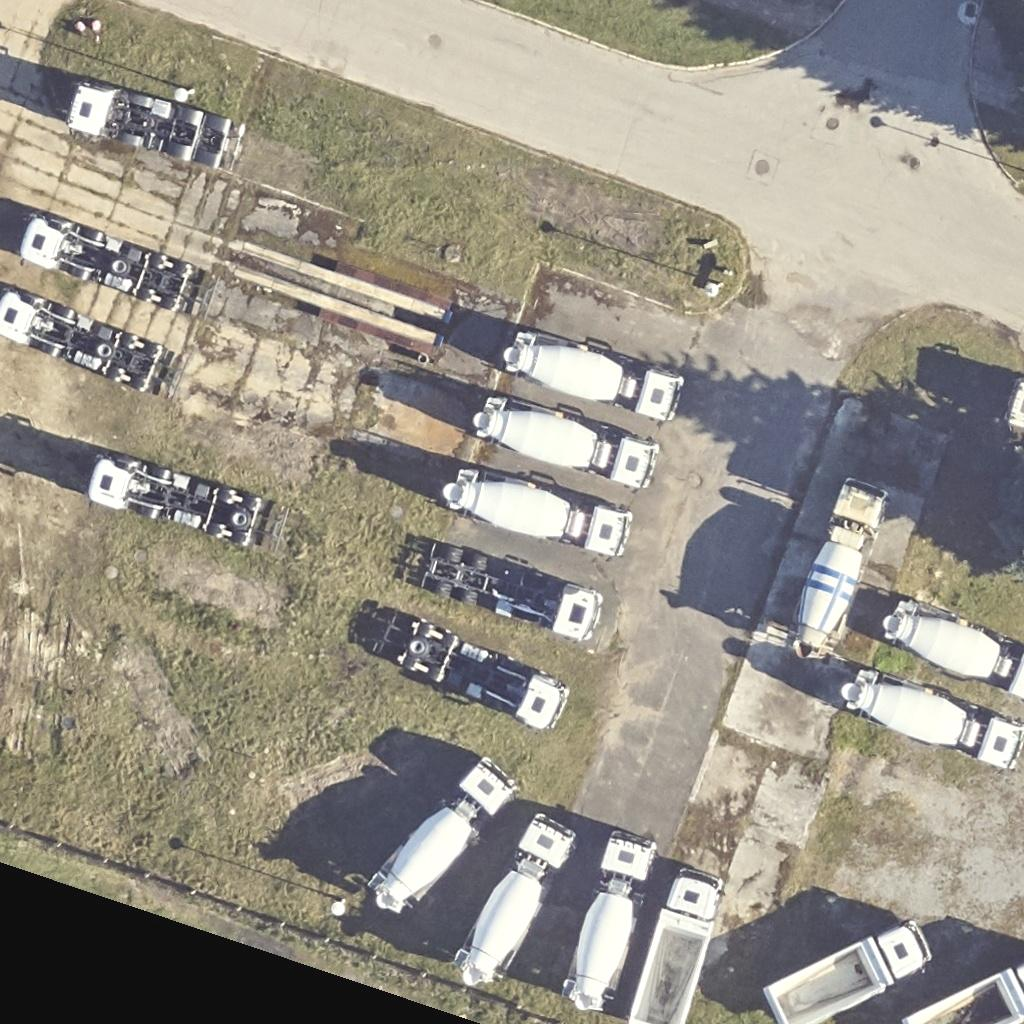betoniarka: (369, 758, 516, 913), (454, 814, 575, 986), (563, 831, 656, 1011), (442, 469, 632, 557)
ciezarowka: (763, 921, 931, 1023), (628, 867, 723, 1023), (902, 963, 1023, 1023)
